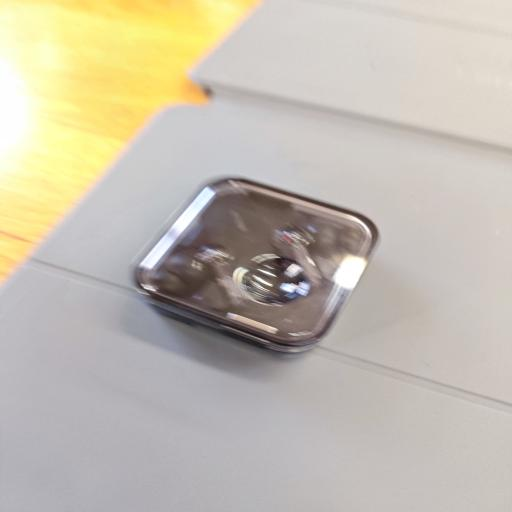Headphones: (128, 170, 388, 358)
